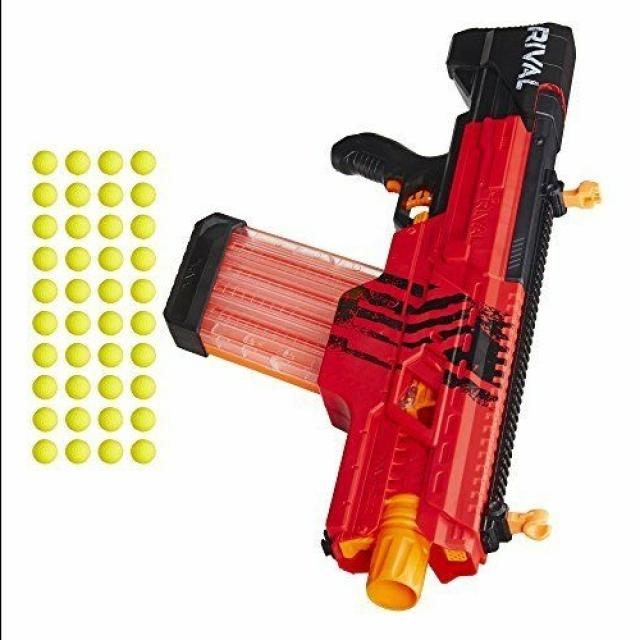Nerf gun: (155, 21, 605, 614)
